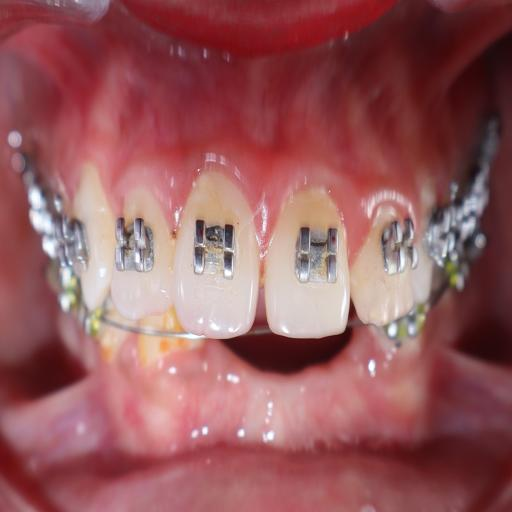correct_brace: (288, 214, 342, 291), (188, 212, 242, 272), (112, 211, 155, 282), (382, 210, 424, 280)
incorrect_brace: (110, 183, 172, 322), (348, 206, 396, 334)
